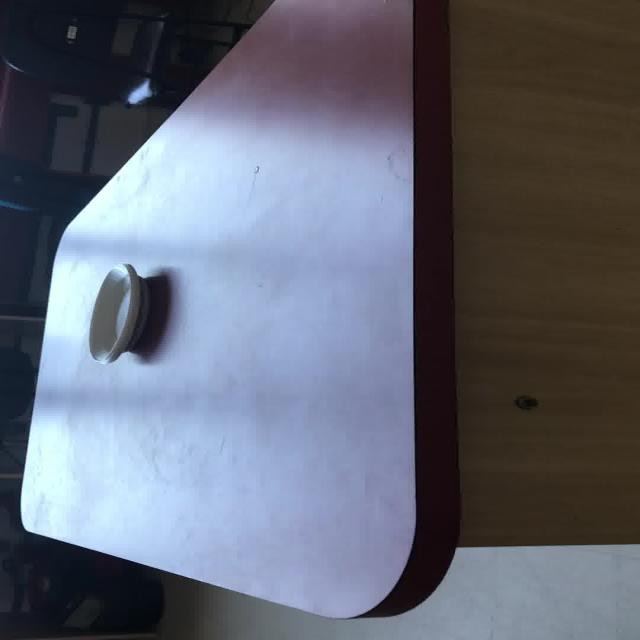plate: (18, 0, 460, 619), (86, 263, 150, 364)
